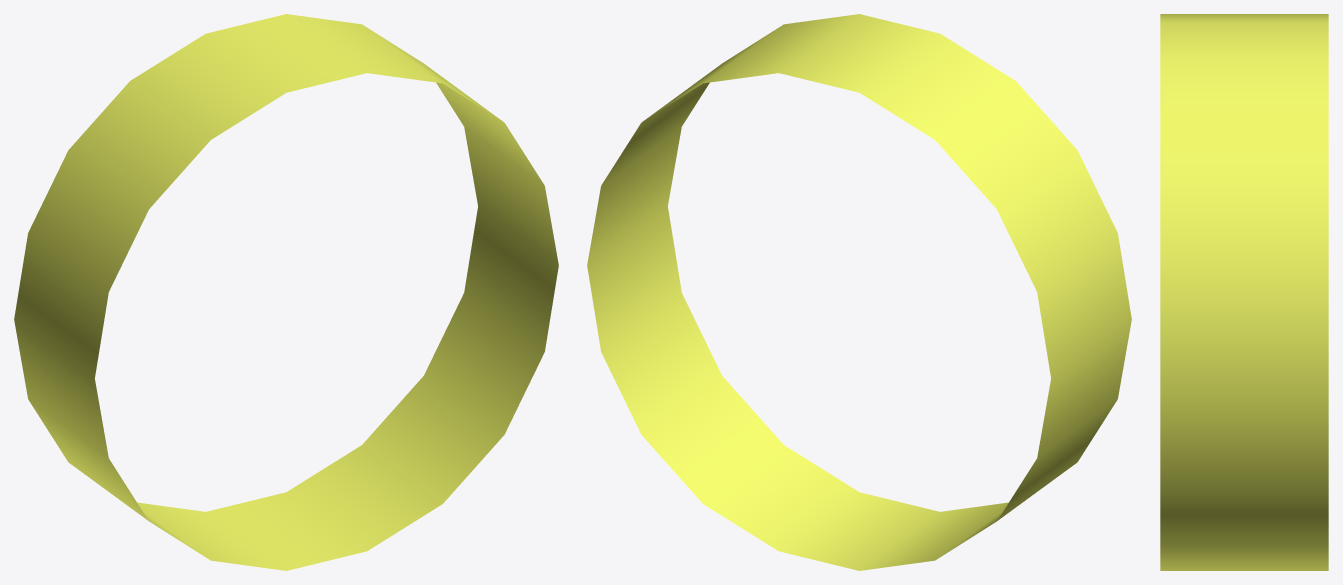
File: fxuse_oneflag_flagbase_cylinder_LOD0.obj
3 renders of one model, left to right at view 1: azimuth 30°, elevation 25°; view 2: azimuth 150°, elevation 25°; view 3: azimuth 270°, elevation 25°, orthographic. The views are drawn at different scales.
Visible parts, largest first — view 1: mtl_fxuse_oneflag_flagbase_cylinder; view 2: mtl_fxuse_oneflag_flagbase_cylinder; view 3: mtl_fxuse_oneflag_flagbase_cylinder.
Part boxes in pixels (<box>): mtl_fxuse_oneflag_flagbase_cylinder: <box>14,14,558,570</box>; mtl_fxuse_oneflag_flagbase_cylinder: <box>587,14,1131,570</box>; mtl_fxuse_oneflag_flagbase_cylinder: <box>1160,14,1328,570</box>.
Size of the model in its own units: 254 by 250 by 76.56.
